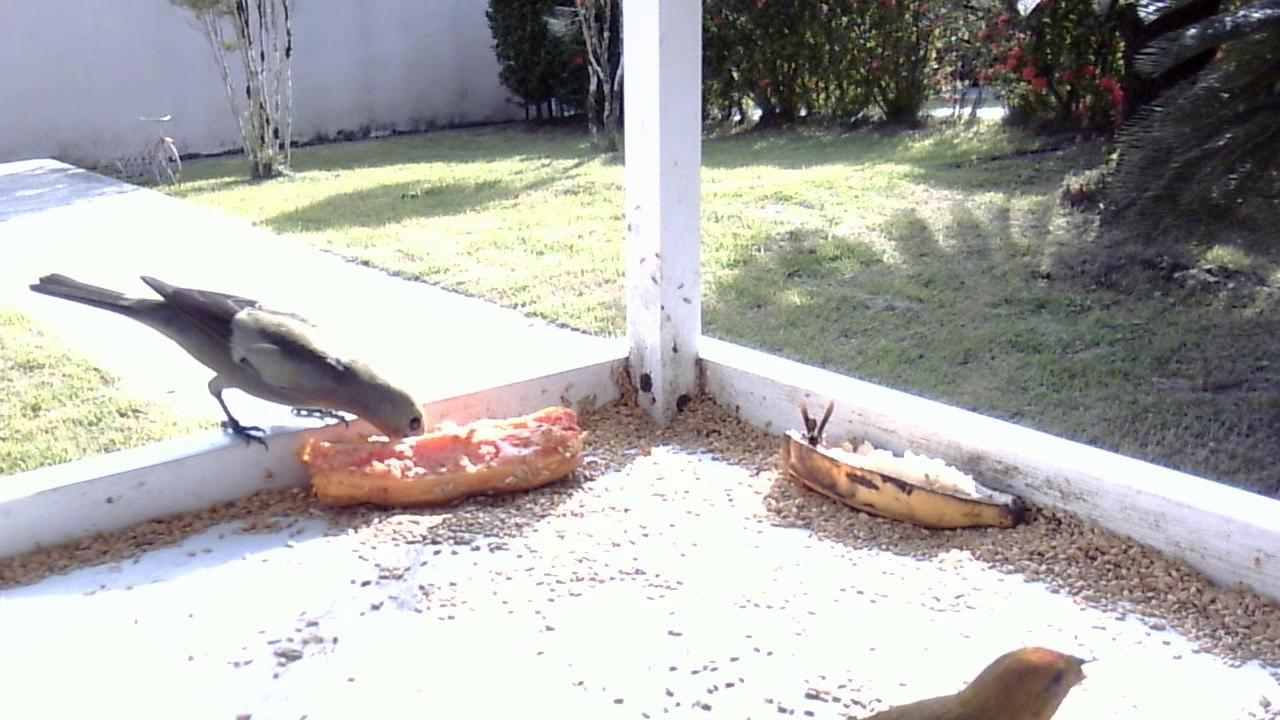canario_do_amazonas: (829, 641, 1106, 720)
sanhaco_do_coqueiro: (20, 259, 430, 467)
